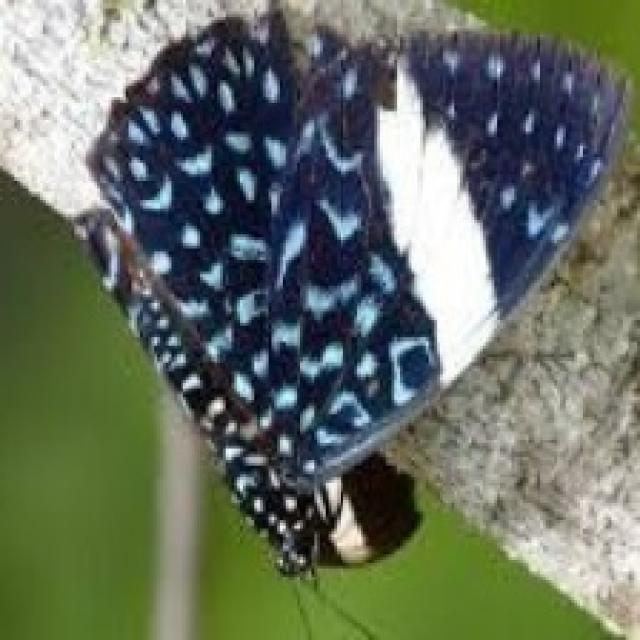butterfly: (69, 3, 632, 637)
